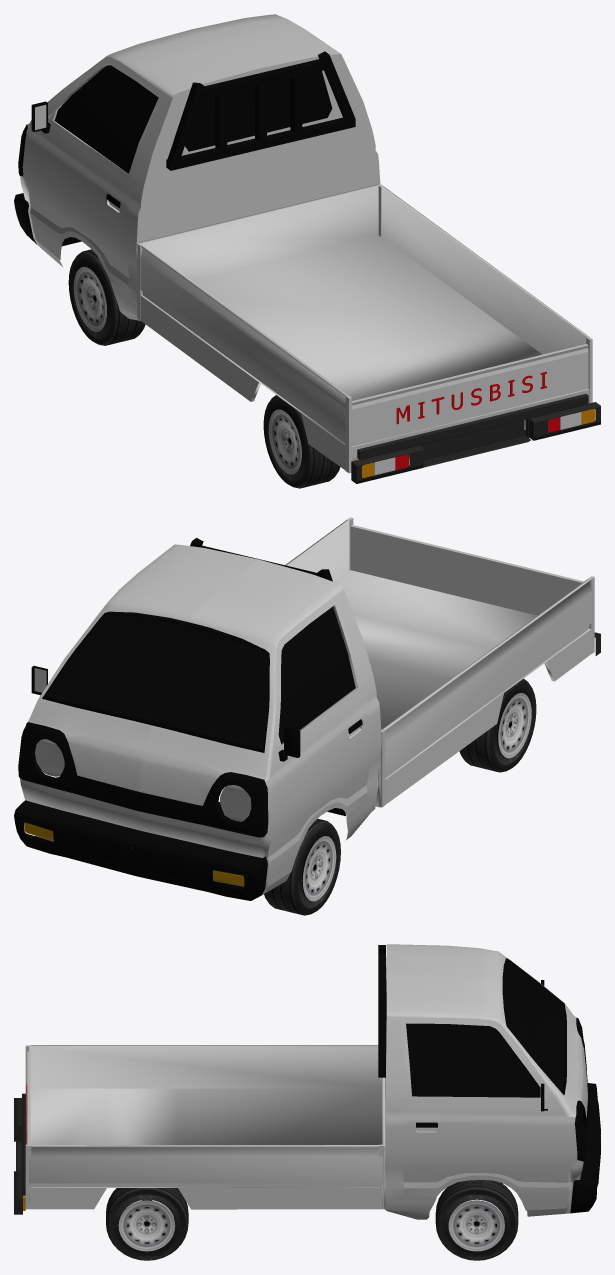
The model's file is v_kei.glb.
The picture shows the model from 3 angles, top to bottom: view 1: azimuth 30°, elevation 25°; view 2: azimuth 150°, elevation 25°; view 3: azimuth 270°, elevation 25°; orthographic projection. The views are drawn at different scales.
Parts seen in each view (by area): view 1: Object_4, Object_52, Object_54; view 2: Object_4, Object_52, Object_54; view 3: Object_4, Object_52, Object_54.
Part boxes in pixels (bbox=[...]): Object_4: bbox=[14, 14, 600, 483]; Object_52: bbox=[68, 249, 340, 488]; Object_54: bbox=[73, 267, 301, 474]; Object_4: bbox=[14, 517, 600, 900]; Object_52: bbox=[264, 678, 536, 915]; Object_54: bbox=[302, 693, 531, 901]; Object_4: bbox=[14, 944, 600, 1219]; Object_52: bbox=[106, 1180, 518, 1260]; Object_54: bbox=[118, 1200, 504, 1251].
Bounding box in the file's own units: 1.45 × 1.5 × 3.28.
Materials: 3 (2 with a texture image).
